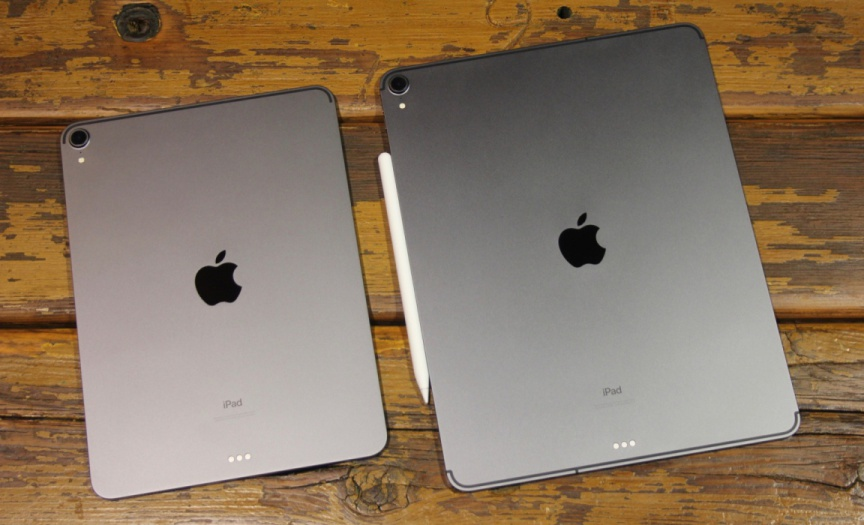apple: (181, 243, 292, 312), (550, 197, 632, 288)
